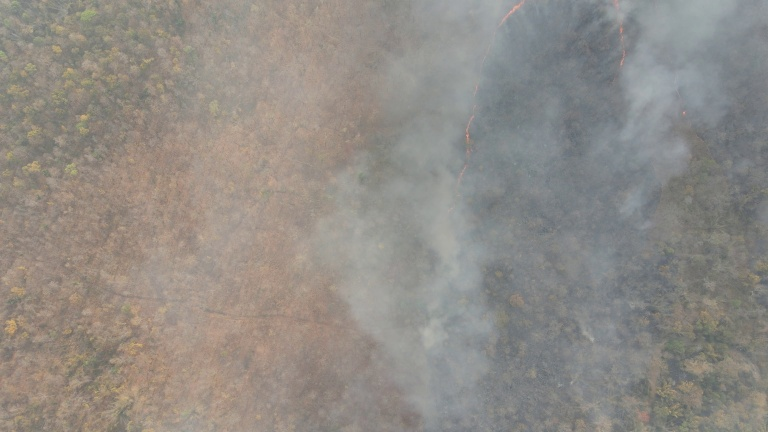fire: (449, 79, 486, 186), (480, 1, 531, 59), (605, 1, 633, 83), (673, 75, 693, 118)
smoke: (371, 1, 528, 399), (611, 1, 723, 195)
